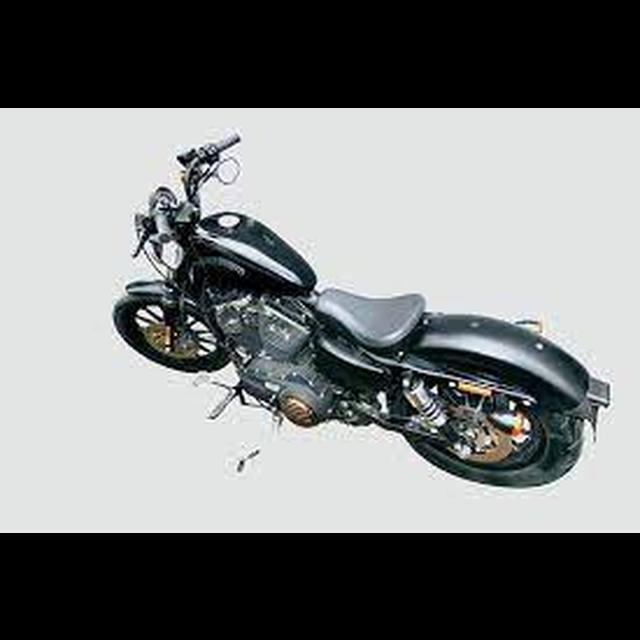motorcycle: (115, 135, 617, 494)
